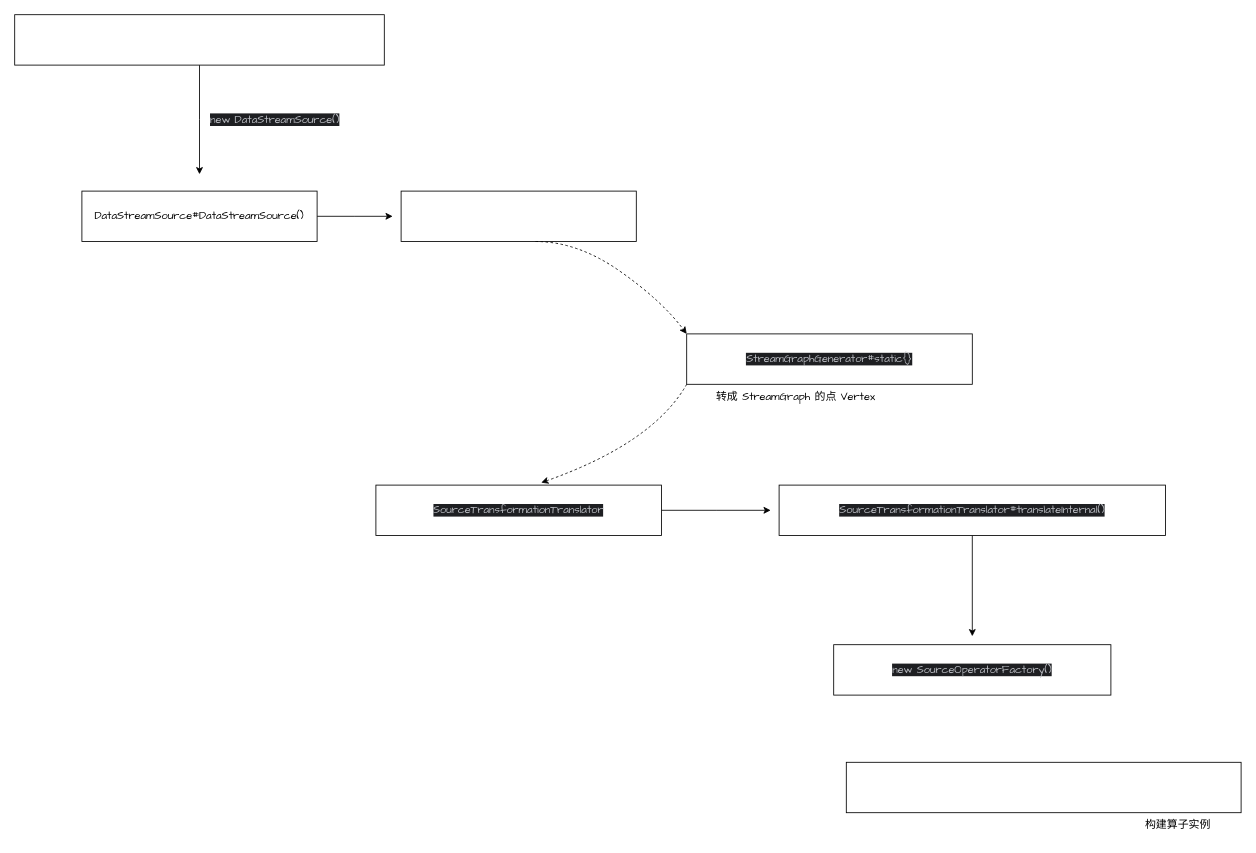
Some shapes in this 1256 by 853 pixel diagram are drawn without their labels. Here are the shapes that lost their labels. From the top down, the box of each, then its label:
(14, 14, 384, 65): StreamExecutionEnvironment#fromSource()
(400, 190, 636, 242): new SourceTransformation()
(845, 761, 1241, 813): SourceOperatorFactory#createStreamOperator()
